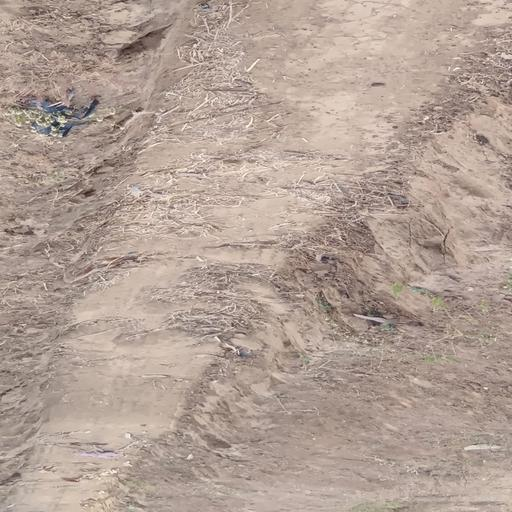vehicle_track: (1, 0, 512, 512)
